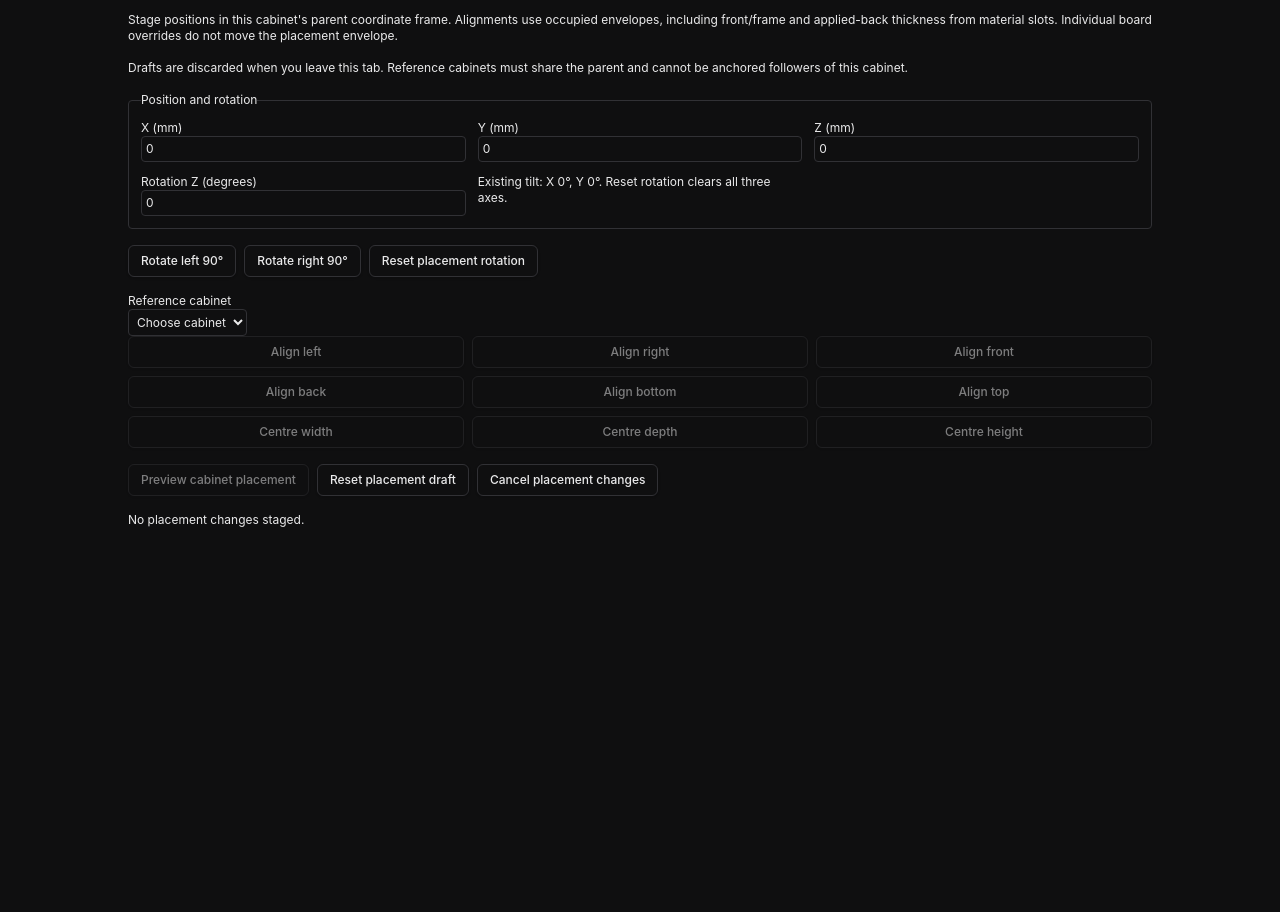
Test: reports a rejected apply without claiming success
Replace the text in the number field named "Placement X" with "100" at (303, 149), box [141,136,466,162]
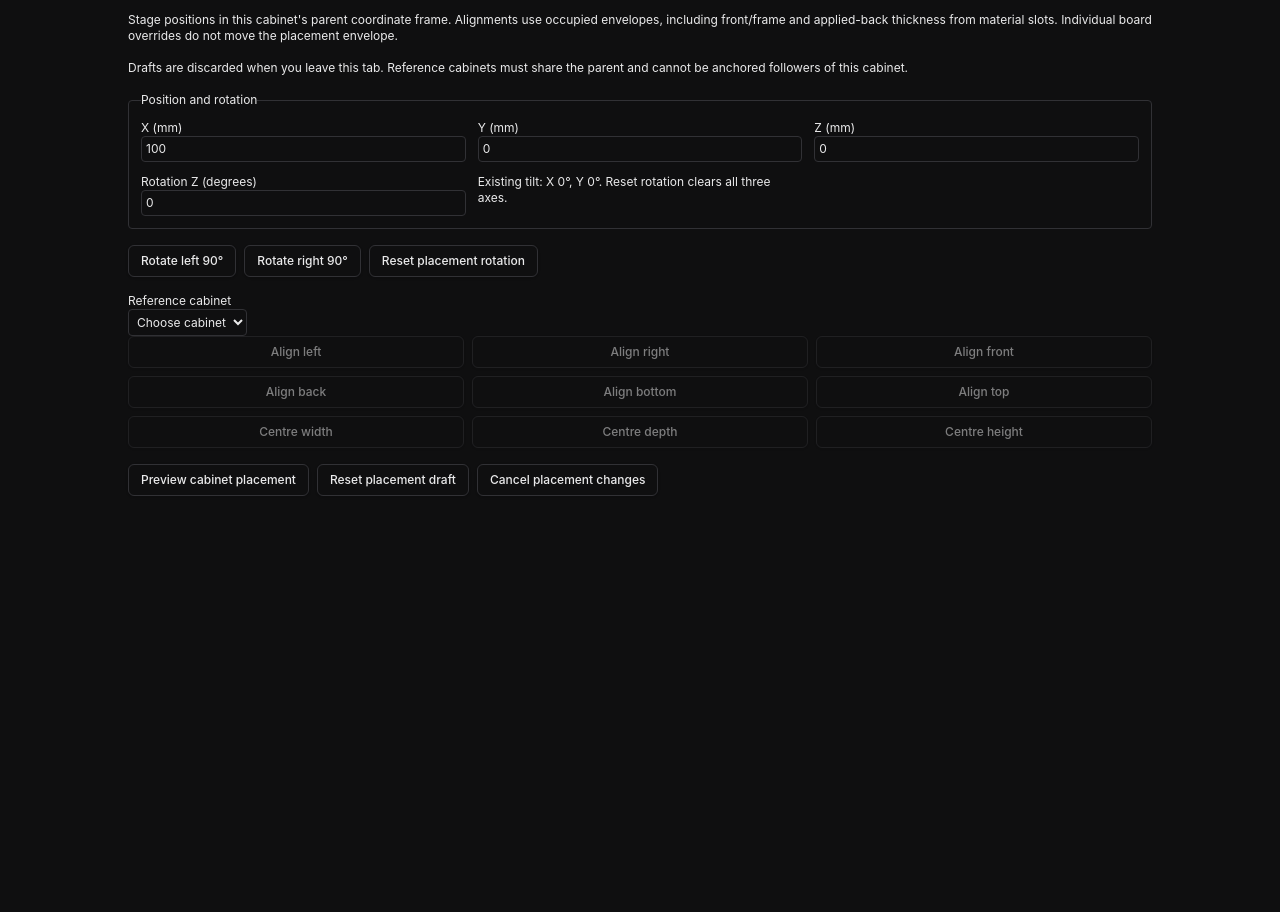
Click the button "Preview cabinet placement".
click(218, 480)  # box [128,464,309,496]
(page scrolled)
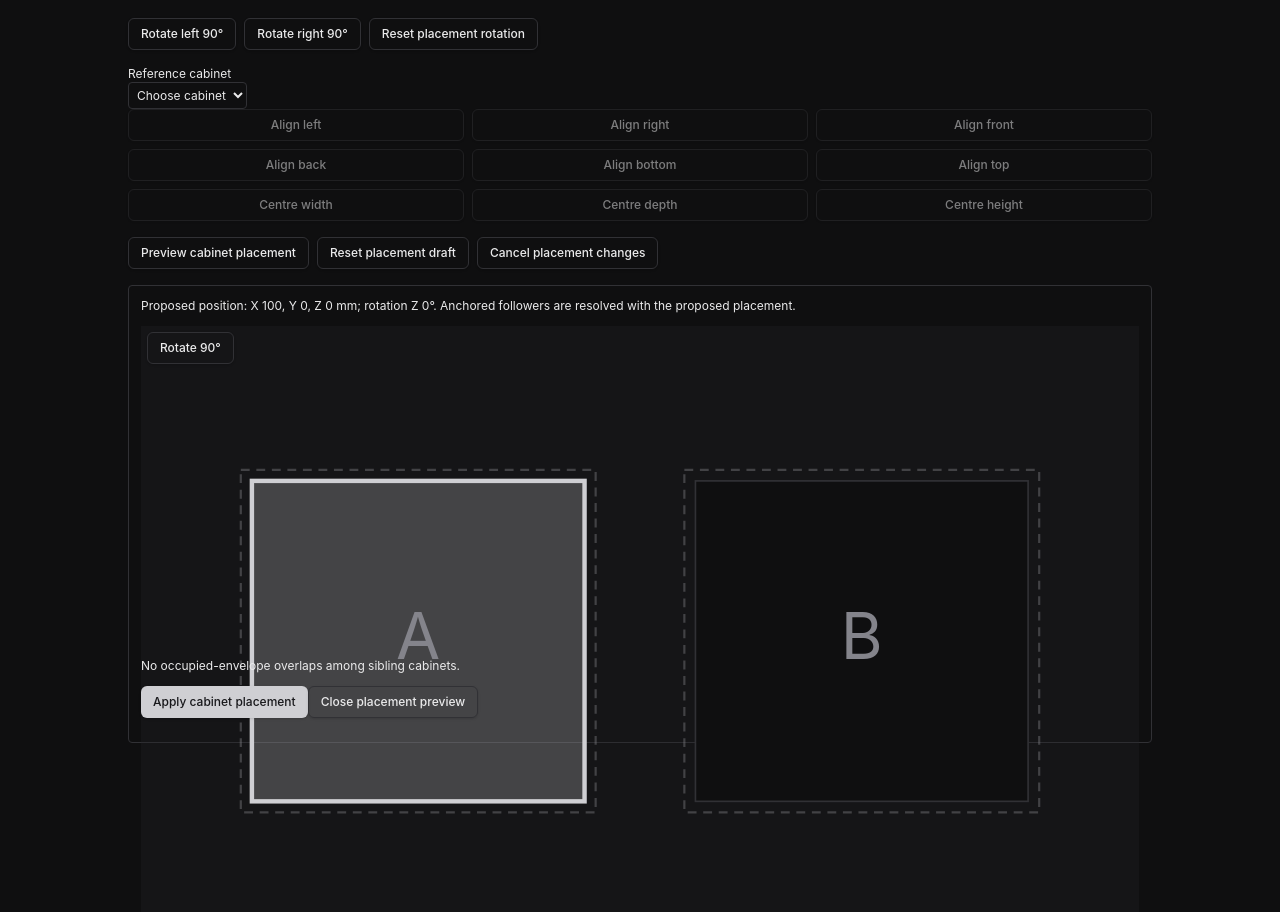
Click the button "Apply cabinet placement".
click(224, 702)  # box [141,686,308,718]
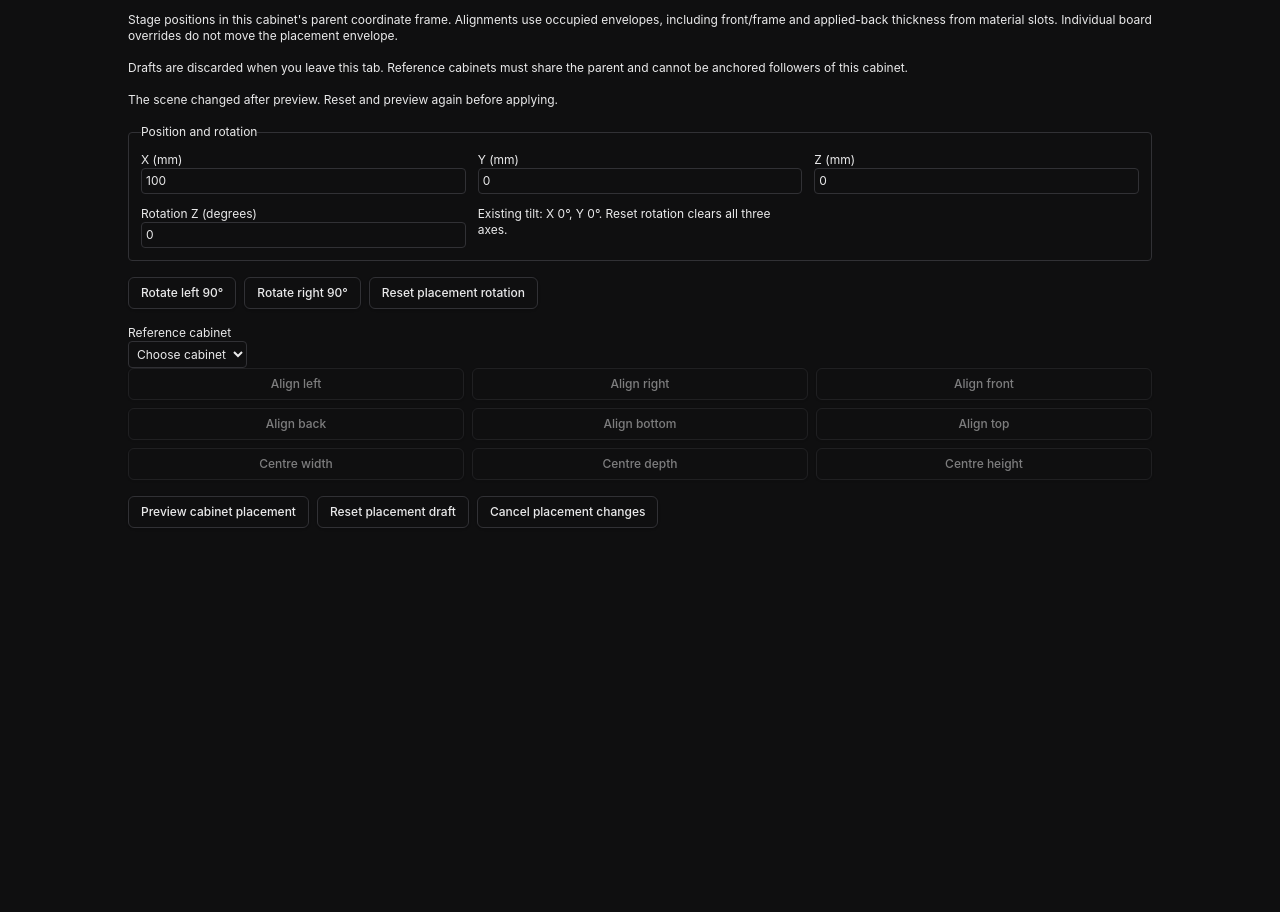
expect the message shows "changed after preview": met, box [128,92,558,107]
